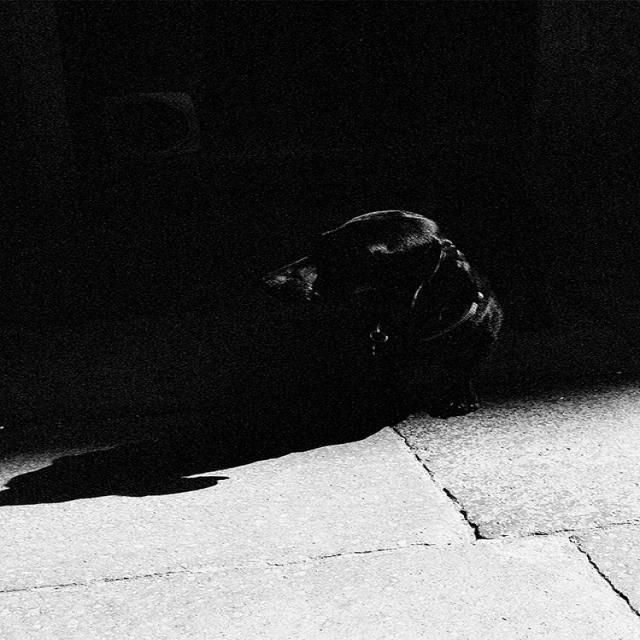Dog: (120, 202, 594, 468)
